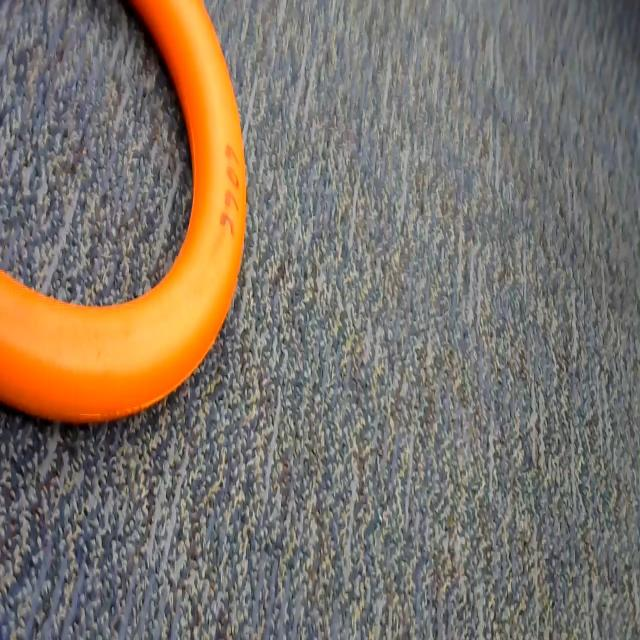note: (0, 0, 261, 440)
